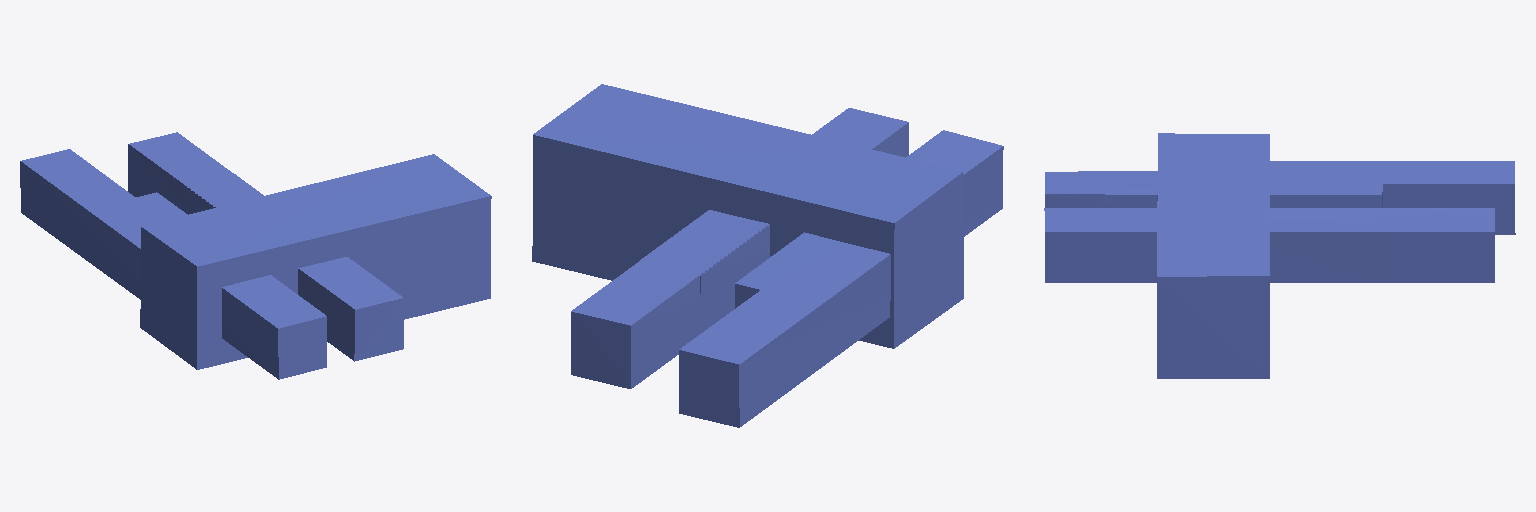
URDF robot description (procedural_obj_0009):
<?xml version="0.0" ?>
<!-- based on data/cube.urdf -->
<robot name="procedural_obj_0009">
  <link name="procedural_obj_0009">
    <contact>
      <lateral_friction value="1.0"/>
      <rolling_friction value="0.0"/>
      <contact_cfm value="0.0"/>
      <contact_erp value="1.0"/>
    </contact>
    <inertial>
      <origin rpy="0 0 0" xyz="0 0 0"/>
       <mass value="1.0"/>
       <inertia ixx="1" ixy="0" ixz="0" iyy="1" iyz="0" izz="1"/>
    </inertial>
    <visual>
      <origin rpy="0 0 0" xyz="0 0 0"/>
      <geometry>
	<mesh filename="0009.obj" scale="1 1 1"/>
      </geometry>
       <material name="random_colour">
        <color rgba="0.462 0.540 0.840 1"/>
      </material>
    </visual>
    <collision>
      <origin rpy="0 0 0" xyz="0 0 0"/>
      <geometry>
	<mesh filename="0009.vhacd.obj" scale="1 1 1"/>
      </geometry>
    </collision>
  </link>
</robot>

--- What the picture shows (computed from the rendered views, not written in the file) ---
3 views of the same robot in one strip: view 1: azimuth 30°, elevation 25°; view 2: azimuth 150°, elevation 25°; view 3: azimuth 270°, elevation 25° (orthographic).
Model procedural_obj_0009 with 1 links and 0 joints (none), rooted at procedural_obj_0009, posed all joints at 0.
Visible links, largest first — view 1: procedural_obj_0009; view 2: procedural_obj_0009; view 3: procedural_obj_0009.
Boxes of the visible links, x1,y1,x2,y2 form: procedural_obj_0009: (20, 132, 491, 379); procedural_obj_0009: (532, 84, 1003, 427); procedural_obj_0009: (1044, 133, 1515, 378).
Bounding box of the posed robot: 0.0901 × 0.1255 × 0.0302 m (x, y, z).
Meshes: 1 distinct files referenced, 1 mesh visuals loaded (1 OBJ).